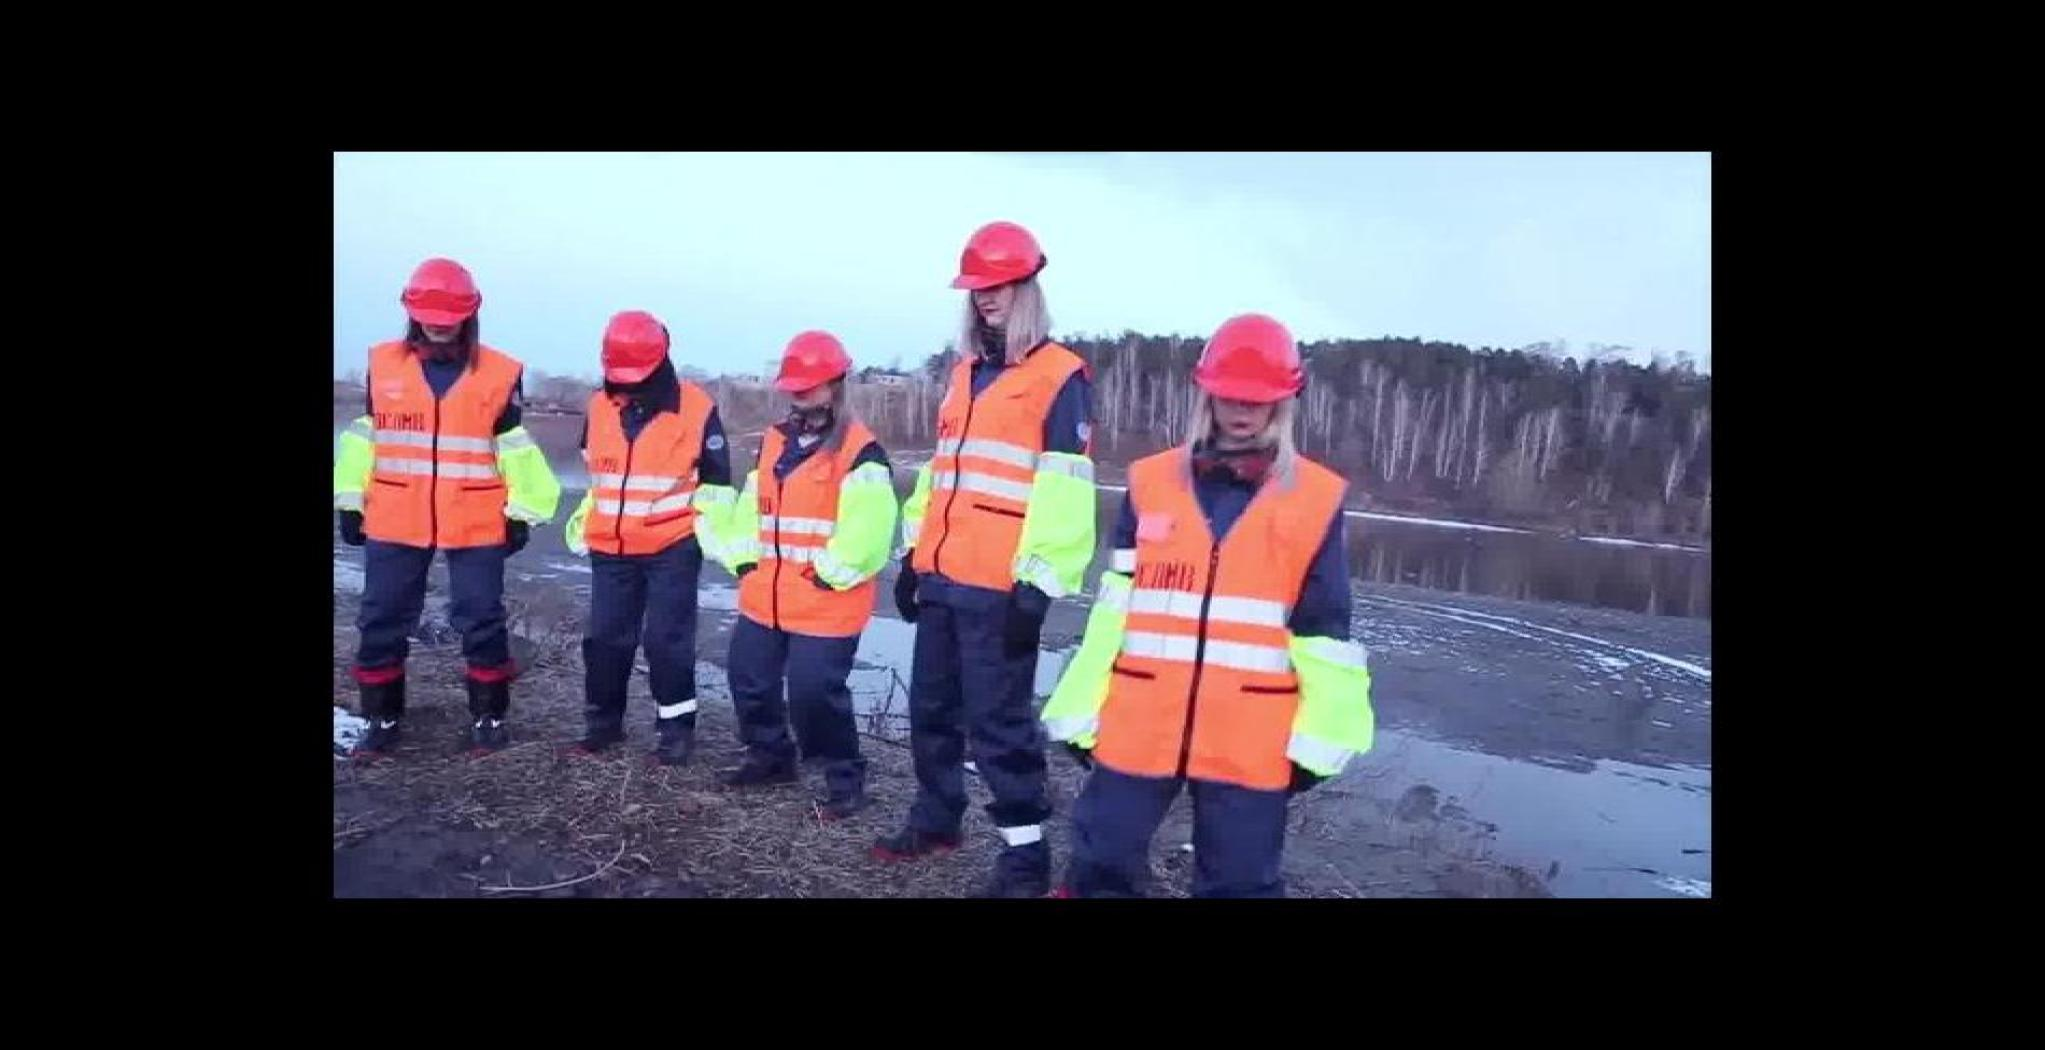gloved: (1263, 734, 1361, 826), (1022, 710, 1124, 782), (485, 508, 562, 556), (342, 506, 391, 552), (733, 562, 777, 587), (793, 571, 837, 592)
